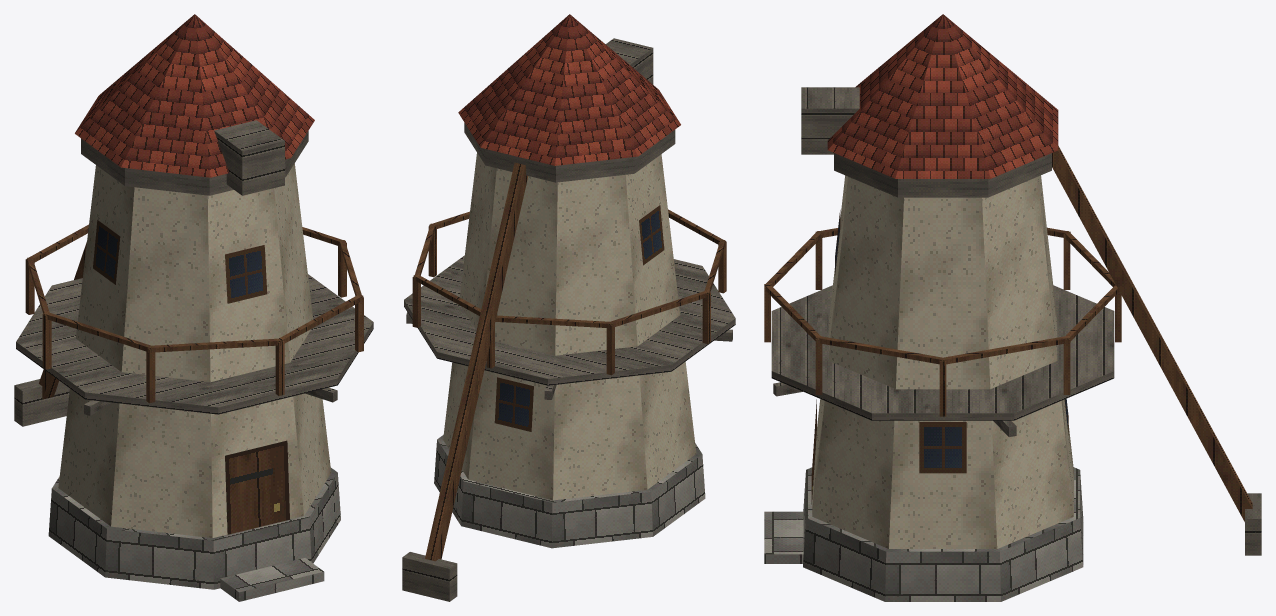
Rendered from molino.obj.
3 views of the same model, side by side, from view 1: azimuth 30°, elevation 25°; view 2: azimuth 150°, elevation 25°; view 3: azimuth 270°, elevation 25° (orthographic). The views are drawn at different scales.
Parts seen in each view (by area): view 1: molino; view 2: molino; view 3: molino.
Part boxes in pixels (left/top/right/bottom): molino: left=14, top=14, right=373, bottom=601; molino: left=402, top=14, right=735, bottom=601; molino: left=764, top=14, right=1261, bottom=601.
Size of the model in its own units: 5.3 by 8.65 by 7.38.
7 materials, 7 textured.
